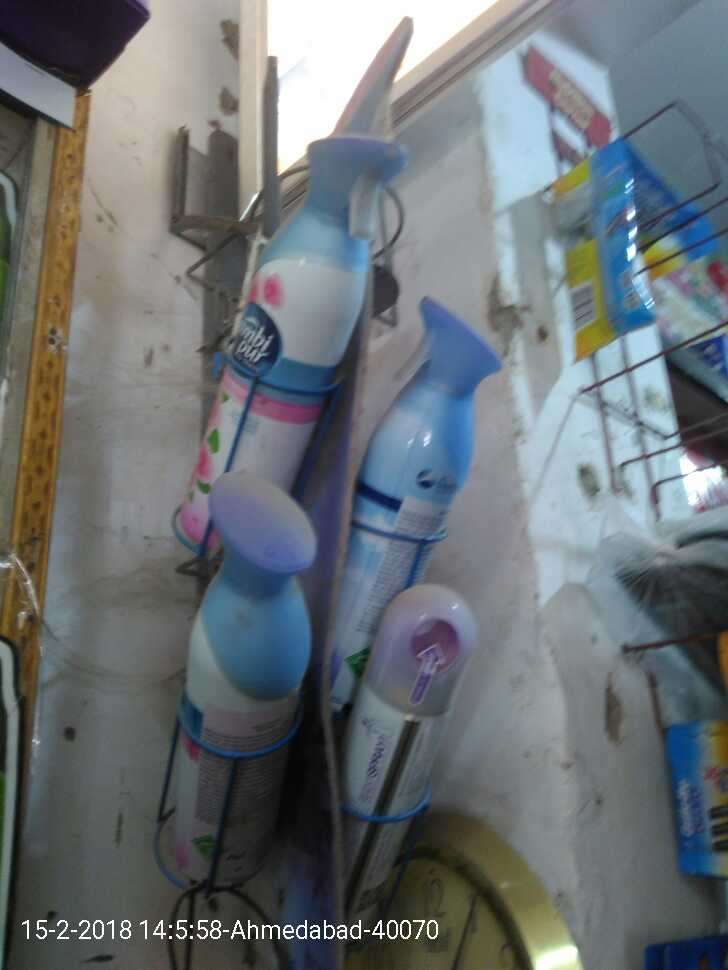beauty: (541, 124, 670, 347)
home: (327, 275, 485, 727), (168, 478, 312, 914)
